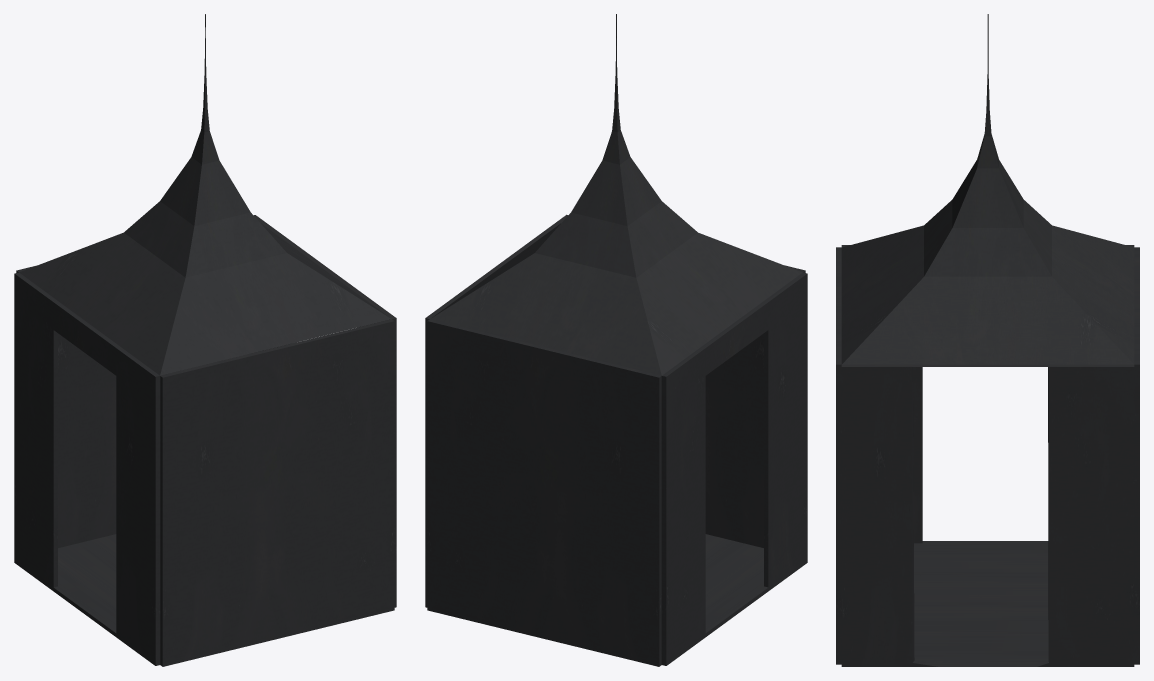
Rendered from ascenseur.obj.
3 renders of one model, left to right at view 1: azimuth 30°, elevation 25°; view 2: azimuth 150°, elevation 25°; view 3: azimuth 270°, elevation 25°, orthographic. The views are drawn at different scales.
Parts seen in each view (by area): view 1: ascenseur; view 2: ascenseur; view 3: ascenseur.
Boxes of the visible parts, x1,y1,x2,y2 form: ascenseur: [14, 14, 396, 666]; ascenseur: [425, 14, 807, 666]; ascenseur: [836, 14, 1139, 666].
Size of the model in its own units: 5.26 by 11.9 by 5.53.
1 material, 1 textured.
